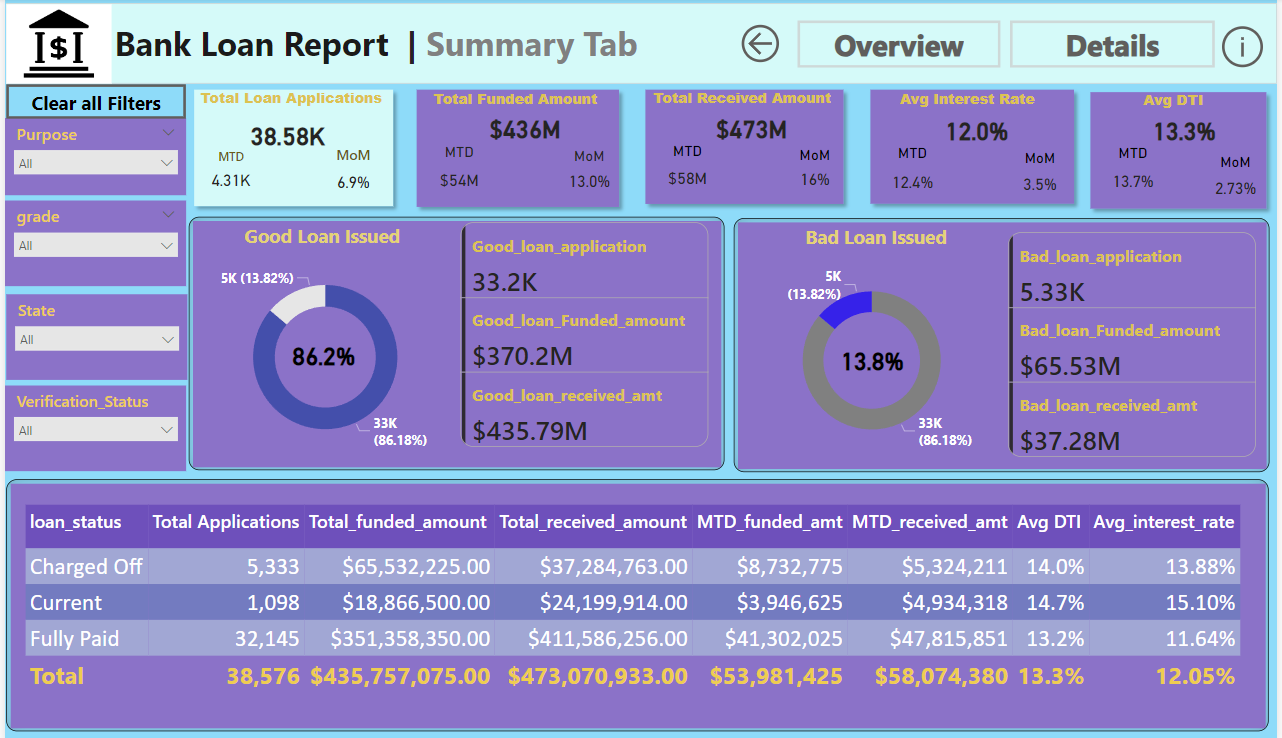

The dashboard page shown, as its layout file describes it:
{"tool":"powerbi","page":{"name":"Summary","canvas":[1450,850],"ordinal":0},"visuals":[{"type":"shape","box":[460.1,95.8,248.6,151.6],"z":0,"group":"g3"},{"type":"shape","box":[206,96,244.6,150.6],"z":0,"group":"g2"},{"type":"shape","box":[721.2,96,243.7,148.2],"z":0,"group":"g4"},{"type":"shape","box":[976.5,96,250,148],"z":0,"group":"g5"},{"type":"shape","box":[1228.1,97.6,218.5,150.7],"z":0,"group":"g6"},{"type":"group","id":"g1","title":"Group 2","box":[829.8,250,610.7,289.3],"z":0},{"type":"shape","box":[1.9,5.6,1447.8,92],"z":1000},{"type":"card","fields":{"Values":["Table.total_received_amount"]},"box":[796.2,125.6,109.6,45.2],"z":1000,"group":"g4"},{"type":"card","fields":{"Values":["Table.total_funded_amount"]},"box":[536.6,126.1,111.8,46.2],"z":1000,"group":"g3"},{"type":"card","fields":{"Values":["Table.Avg_interest_rate"]},"box":[1051.9,127.5,109.8,47.3],"z":1000,"group":"g5"},{"type":"card","fields":{"Values":["Table.Avg DTI"]},"box":[1295.4,127.7,98.2,45.9],"z":1000,"group":"g6"},{"type":"card","fields":{"Values":["Table.Total Applications"]},"box":[261.7,135,120.6,44.5],"z":1000,"group":"g2"},{"type":"textbox","box":[120.2,20.7,632.8,63.8],"z":2000},{"type":"textbox","box":[465.2,97.9,231.4,36.4],"z":2000,"group":"g3"},{"type":"textbox","box":[211.1,98.1,227.8,36.2],"z":2000,"group":"g2"},{"type":"textbox","box":[726.2,98.1,226.9,35.6],"z":2000,"group":"g4"},{"type":"textbox","box":[981.8,98.7,227.3,37.3],"z":2000,"group":"g5"},{"type":"textbox","box":[1232.6,99.7,203.4,36.2],"z":2000,"group":"g6"},{"type":"group","id":"g2","title":"Group 1","box":[206,96,244.6,150.6],"z":3000},{"type":"card","title":"MTD","fields":{"Values":["Table.MTD_received_amt"]},"box":[746.4,164.1,62.6,65.3],"z":3000,"group":"g4"},{"type":"card","title":"MTD","fields":{"Values":["Table.MTD_funded_amt"]},"box":[485.8,165.5,63.9,66.8],"z":3000,"group":"g3"},{"type":"card","title":"MTD","fields":{"Values":["Table.MTD_DTI"]},"box":[1250.5,165.9,69.5,67.6],"z":3000,"group":"g6"},{"type":"card","title":"MTD","fields":{"Values":["Table.MTD_interest_rate"]},"box":[1002,167.8,62.7,68.4],"z":3000,"group":"g5"},{"type":"card","title":"MTD","fields":{"Values":["Table.MTD"]},"box":[228.5,171.1,56.3,58.2],"z":3000,"group":"g2"},{"type":"group","id":"g3","title":"Group 1","box":[460.1,95.8,247.9,152.1],"z":4000},{"type":"card","title":"MoM","fields":{"Values":["Table.Months_over_month"]},"box":[354.3,167.4,84.5,65.7],"z":4000,"group":"g2"},{"type":"card","title":"MoM","fields":{"Values":["Table.MoM_Received_amt"]},"box":[887.5,168.4,71.2,60.2],"z":4000,"group":"g4"},{"type":"card","title":"MoM","fields":{"Values":["Table.MoM_Funded_amt"]},"box":[629.7,169.9,72.6,61.6],"z":4000,"group":"g3"},{"type":"card","title":"MoM","fields":{"Values":["Table.MoM_Interest_rate"]},"box":[1143.3,172.3,71.3,63.1],"z":4000,"group":"g5"},{"type":"card","title":"MoM","fields":{"Values":["Table.MoM_DTI"]},"box":[1370.7,175.3,63.8,62],"z":4000,"group":"g6"},{"type":"group","id":"g4","title":"Group 1","box":[721.2,96,244,150],"z":5000},{"type":"group","id":"g5","title":"Group 1","box":[976.5,96,250,148],"z":6000},{"type":"group","id":"g6","title":"Group 1","box":[1228.1,97.6,218.5,150.7],"z":7000},{"type":"shape","box":[210.3,249.2,610.3,289.2],"z":7000,"group":"g8"},{"type":"shape","box":[829.8,250,610.7,289.3],"z":8000,"group":"g1"},{"type":"card","fields":{"Values":["Table.Bad_loan%"]},"box":[933.3,384.9,110.8,56.3],"z":8000},{"type":"group","id":"g7","title":"Group 3","box":[201.3,291.9,328.6,234.7],"z":9000,"group":"g8"},{"type":"shape","box":[1.9,548.3,1438.4,287.3],"z":9000},{"type":"donutChart","fields":{"Category":["loan.Good vs Bad Loan"],"Y":["Table.Total Applications"]},"box":[201.3,291.9,328.6,234.7],"z":9500,"group":"g7"},{"type":"textbox","box":[210.3,251.1,304.2,45.1],"z":10000,"group":"g8"},{"type":"tableEx","fields":{"Values":["loan.loan_status","Table.Total Applications","Table.total_funded_amount","Table.total_received_amount","Table.MTD_funded_amt","Table.MTD_received_amt","Table.Avg DTI","Table.Avg_interest_rate"]},"box":[16.9,572.7,1414,238.5],"z":10000},{"type":"slicer","fields":{"Values":["loan.purpose"]},"box":[0,137.1,206.6,88.3],"z":11000},{"type":"cardVisual","fields":{"Data":["Table.Good_loan_application","Table.Good_loan_Funded_amount","Table.Good_loan_received_amt"]},"box":[514.5,251.1,292.9,266.6],"z":11000,"group":"g8"},{"type":"slicer","fields":{"Values":["loan.grade"]},"box":[0,231,206.6,97.6],"z":12000},{"type":"donutChart","fields":{"Category":["loan.Good vs Bad Loan"],"Y":["Table.Total Applications"]},"box":[839.4,296.7,294.8,231],"z":13000,"group":"g1"},{"type":"slicer","fields":{"Values":["loan.address_state"]},"box":[1.9,338,206.6,97.6],"z":13000},{"type":"cardVisual","fields":{"Data":["Table.Bad_loan_application","Table.Bad_loan_Funded_amount","Table.Bad_loan_received_amt"]},"box":[1138,261,292.9,266.6],"z":14000,"group":"g1"},{"type":"slicer","fields":{"Values":["loan.verification_status"]},"box":[0,441.3,206.6,97.6],"z":14000},{"type":"actionButton","title":"Overview Button","box":[903.5,25.9,231.4,53.9],"z":15000},{"type":"textbox","box":[839.4,251.6,304.2,45.1],"z":15000,"group":"g1"},{"type":"card","fields":{"Values":["Table.Good_loan%"]},"box":[309.2,385.5,108.4,43],"z":15001,"group":"g7"},{"type":"actionButton","title":"Details Button","box":[1144.8,25.9,233.4,53.9],"z":16000},{"type":"actionButton","box":[1380.2,25.9,59.8,59.8],"z":18000},{"type":"actionButton","title":"Back to Original Page","box":[833.6,22.5,54.9,57.4],"z":19000},{"type":"actionButton","box":[1.9,97.6,204.7,39.4],"z":20000},{"type":"group","id":"g8","title":"Group 4","box":[201.3,249.2,619.3,289.2],"z":21000},{"type":"image","box":[1.9,7.5,120.2,90.1],"z":22000}]}

Visuals, with their boxes in screenshot pixels (x1, y1, x2, y2), scaled from the page's 1450x850 canvas onto the 1282x738 screenshot:
shape: 407, 83, 627, 215
shape: 182, 83, 398, 214
shape: 638, 83, 853, 212
shape: 863, 83, 1084, 212
shape: 1086, 85, 1279, 216
"Group 2" group: 734, 217, 1274, 468
shape: 2, 5, 1281, 85
card - Table.total_received_amount: 704, 109, 801, 148
card - Table.total_funded_amount: 474, 109, 573, 150
card - Table.Avg_interest_rate: 930, 111, 1027, 152
card - Table.Avg DTI: 1145, 111, 1232, 151
card - Table.Total Applications: 231, 117, 338, 156
textbox: 106, 18, 666, 73
textbox: 411, 85, 616, 117
textbox: 187, 85, 388, 117
textbox: 642, 85, 843, 116
textbox: 868, 86, 1069, 118
textbox: 1090, 87, 1270, 118
"Group 1" group: 182, 83, 398, 214
"MTD" card: 660, 142, 715, 199
"MTD" card: 430, 144, 486, 202
"MTD" card: 1106, 144, 1167, 203
"MTD" card: 886, 146, 941, 205
"MTD" card: 202, 149, 252, 199
"Group 1" group: 407, 83, 626, 215
"MoM" card: 313, 145, 388, 202
"MoM" card: 785, 146, 848, 198
"MoM" card: 557, 148, 621, 201
"MoM" card: 1011, 150, 1074, 204
"MoM" card: 1212, 152, 1268, 206
"Group 1" group: 638, 83, 853, 214
"Group 1" group: 863, 83, 1084, 212
"Group 1" group: 1086, 85, 1279, 216
shape: 186, 216, 726, 467
shape: 734, 217, 1274, 468
card - Table.Bad_loan%: 825, 334, 923, 383
"Group 3" group: 178, 253, 469, 457
shape: 2, 476, 1273, 725
donutChart - loan.Good vs Bad Loan x Table.Total Applications: 178, 253, 469, 457
textbox: 186, 218, 455, 257
tableEx - loan.loan_status x Table.Total Applications: 15, 497, 1265, 704
slicer - loan.purpose: 0, 119, 183, 196
cardVisual - Table.Good_loan_application x Table.Good_loan_Funded_amount: 455, 218, 714, 449
slicer - loan.grade: 0, 201, 183, 285
donutChart - loan.Good vs Bad Loan x Table.Total Applications: 742, 258, 1003, 458
slicer - loan.address_state: 2, 293, 184, 378
cardVisual - Table.Bad_loan_application x Table.Bad_loan_Funded_amount: 1006, 227, 1265, 458
slicer - loan.verification_status: 0, 383, 183, 468
"Overview Button" actionButton: 799, 22, 1003, 69
textbox: 742, 218, 1011, 258
card - Table.Good_loan%: 273, 335, 369, 372
"Details Button" actionButton: 1012, 22, 1219, 69
actionButton: 1220, 22, 1273, 74
"Back to Original Page" actionButton: 737, 20, 786, 69
actionButton: 2, 85, 183, 119
"Group 4" group: 178, 216, 726, 467
image: 2, 7, 108, 85
